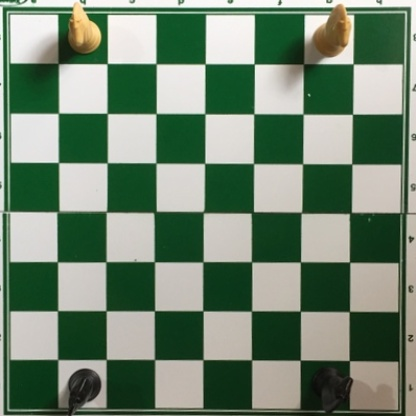black-knight: (311, 365, 355, 416), (66, 367, 102, 416)
white-knight: (311, 2, 357, 57), (67, 1, 102, 57)
